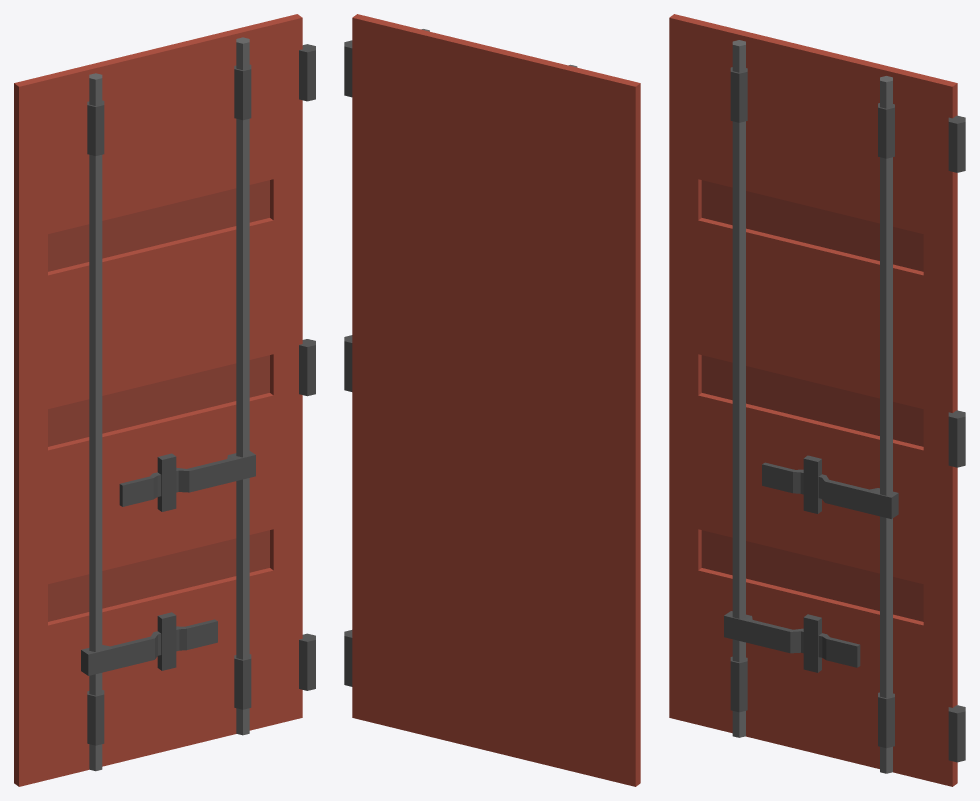
File: ShippingContainer_Door1_R.fbx
The picture shows the model from 3 angles, left to right: view 1: azimuth 30°, elevation 25°; view 2: azimuth 150°, elevation 25°; view 3: azimuth 330°, elevation 25°; orthographic projection.
Parts seen in each view (by area): view 1: ShippingContainer_Door1_R; view 2: ShippingContainer_Door1_R; view 3: ShippingContainer_Door1_R.
Boxes of the visible parts, box(x1,y1,x2,y2) form: ShippingContainer_Door1_R: box(14, 14, 315, 786); ShippingContainer_Door1_R: box(344, 14, 640, 786); ShippingContainer_Door1_R: box(669, 14, 965, 786).
Bounding box in the file's own units: 117 × 263 × 8.59.
